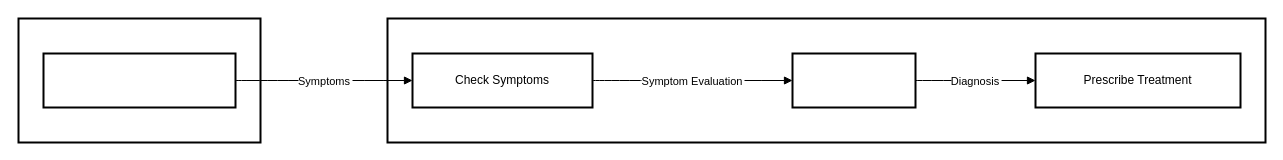
Image size: 1283x160. Some labels were removed from this diagram. The shapes that lost their labels are listed below. From the top down, each one's box as (x1, y1, x2, y2) in pixels, then its label:
(42, 52, 236, 108): Receive Symptoms
(791, 52, 916, 108): Diagnose
